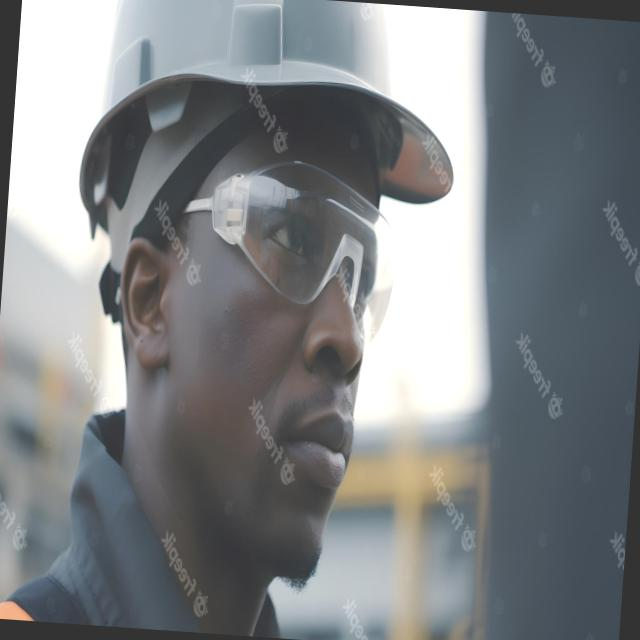goggles: (191, 158, 391, 338)
helmet: (68, 0, 460, 225)
